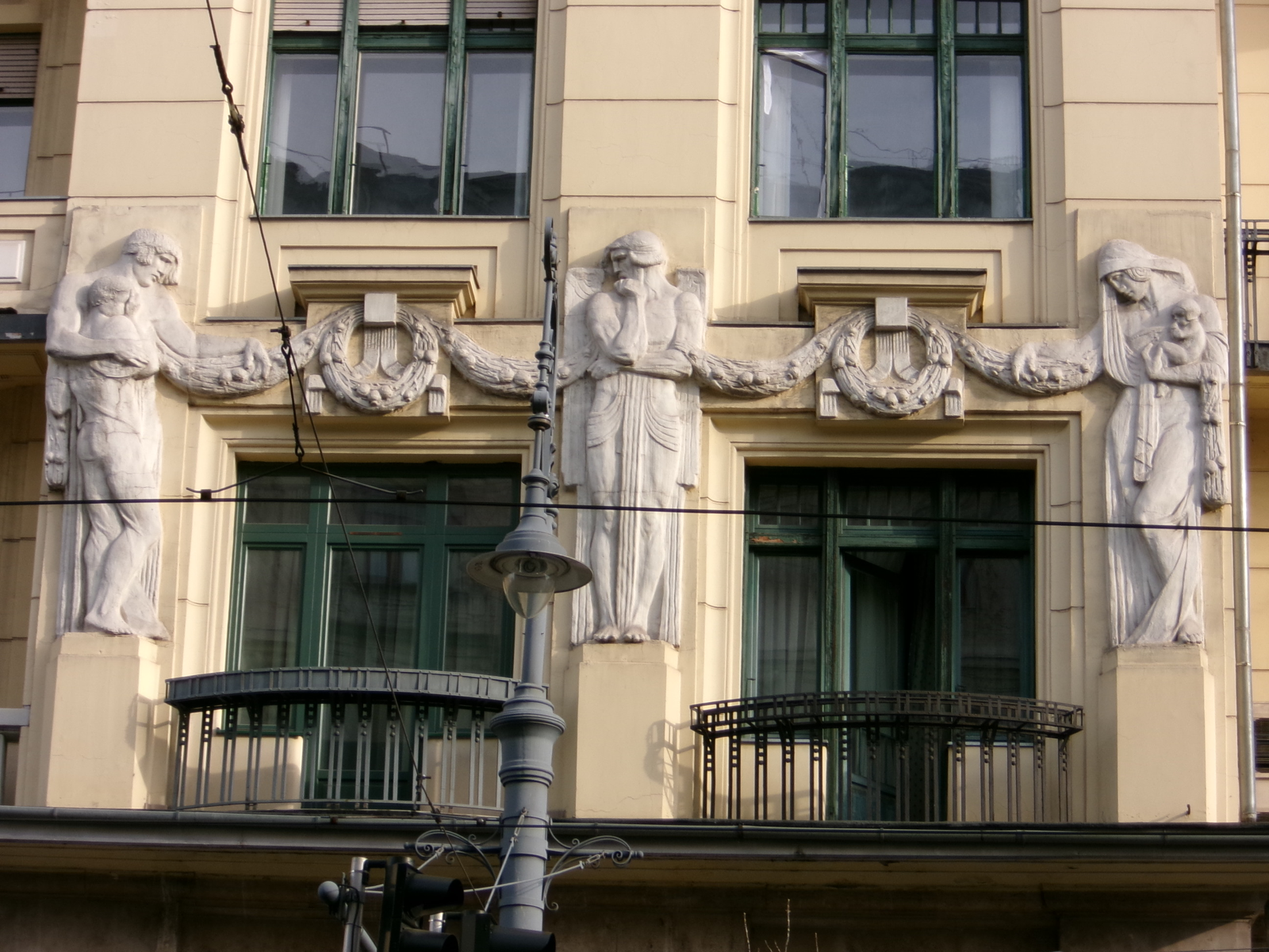fachada: (0, 0, 1269, 875)
poste: (460, 198, 621, 952)
